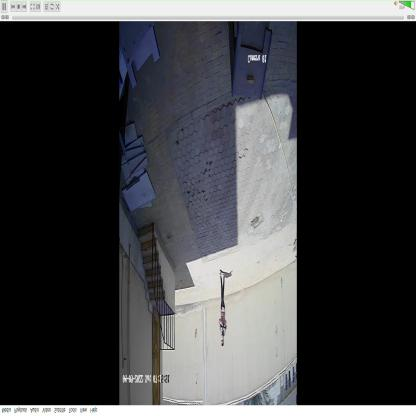handgun: (218, 316, 230, 336)
